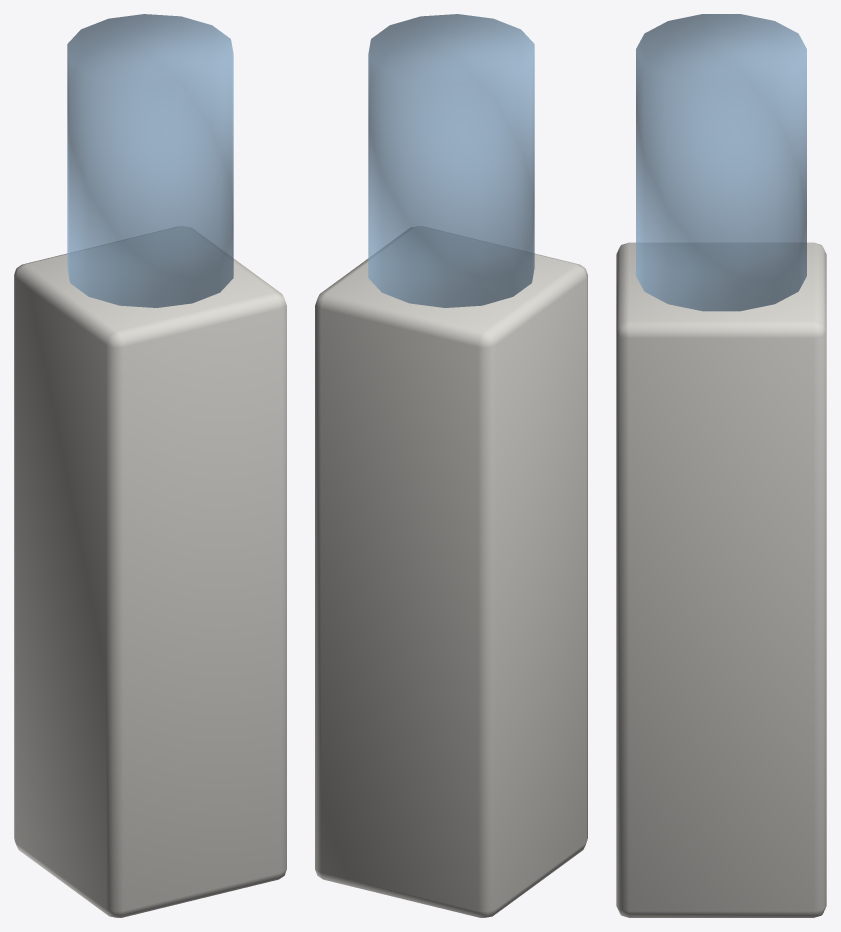
The model's file is bebedouro.glb.
The picture shows the model from 3 angles, left to right: view 1: azimuth 30°, elevation 25°; view 2: azimuth 150°, elevation 25°; view 3: azimuth 270°, elevation 25°; orthographic projection.
Parts seen in each view (by area): view 1: Portaria_Bebedouro, Portaria_Bebedouro_Galao; view 2: Portaria_Bebedouro, Portaria_Bebedouro_Galao; view 3: Portaria_Bebedouro, Portaria_Bebedouro_Galao.
Boxes of the visible parts, left/top/right/bottom form: Portaria_Bebedouro: left=14, top=226, right=286, bottom=917; Portaria_Bebedouro_Galao: left=67, top=14, right=233, bottom=307; Portaria_Bebedouro: left=315, top=226, right=587, bottom=917; Portaria_Bebedouro_Galao: left=368, top=14, right=534, bottom=307; Portaria_Bebedouro: left=616, top=242, right=826, bottom=917; Portaria_Bebedouro_Galao: left=636, top=14, right=806, bottom=311.
Size of the model in its own units: 0.32 by 1.39 by 0.32.
